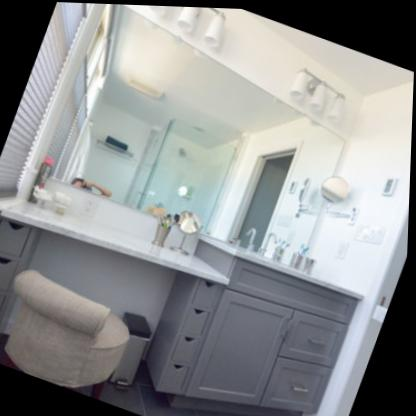Cabinet: (184, 248, 366, 411)
